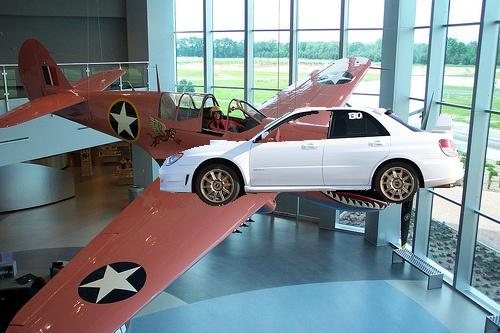tampered: (160, 108, 463, 206)
